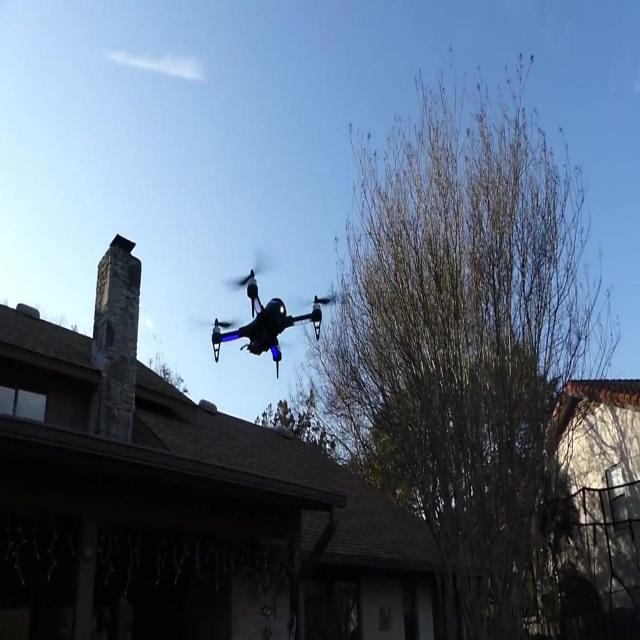UAV: (205, 268, 338, 380)
